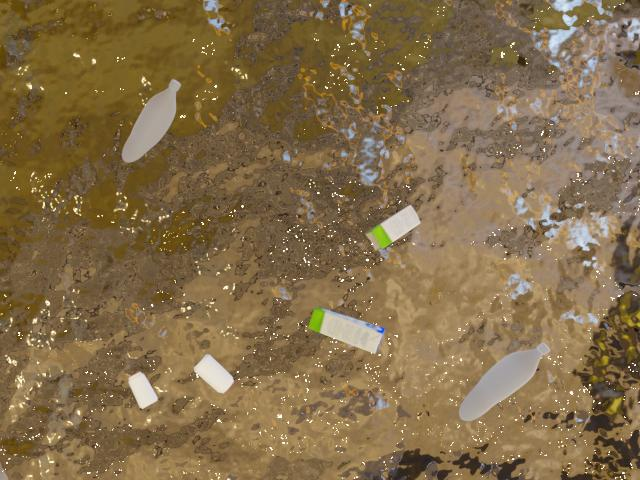Metal: (190, 342, 244, 408), (124, 366, 162, 412)
Plastic: (452, 335, 574, 432), (114, 68, 213, 176)
Trash: (300, 299, 395, 361), (355, 198, 434, 255)
